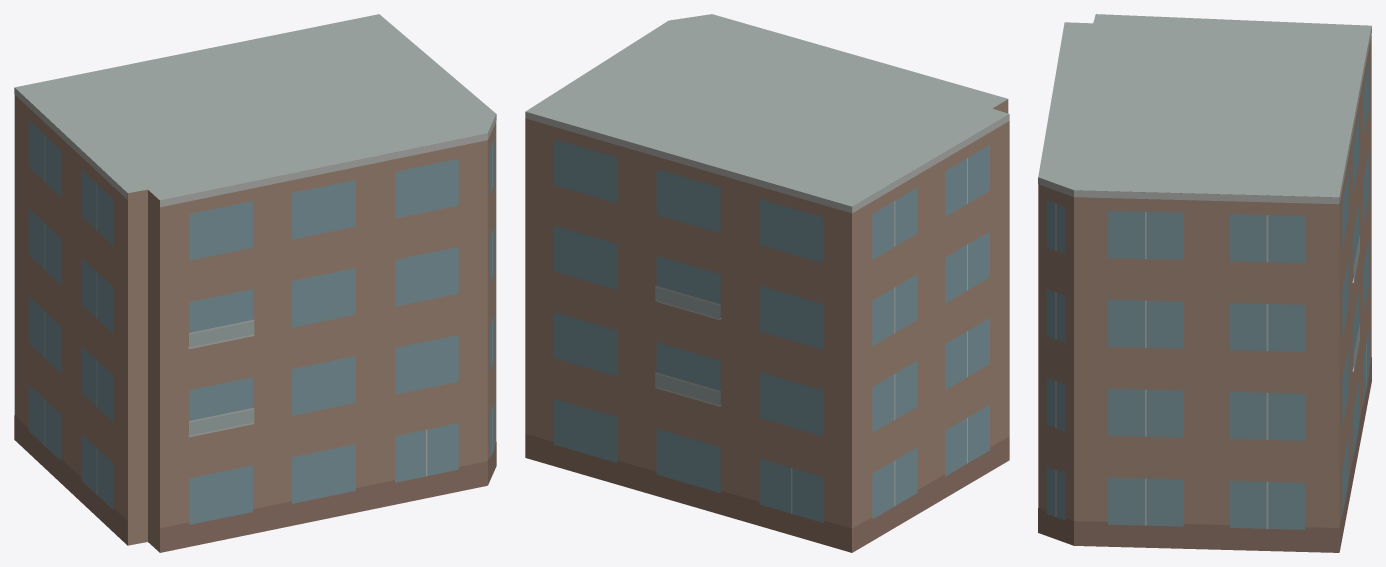
Rendered from survey-upis-32849080.glb.
The picture shows the model from 3 angles, left to right: view 1: azimuth 30°, elevation 25°; view 2: azimuth 150°, elevation 25°; view 3: azimuth 270°, elevation 25°; orthographic projection. The views are drawn at different scales.
Visible parts, largest first — view 1: survey-upis-32849080.tmp; view 2: survey-upis-32849080.tmp; view 3: survey-upis-32849080.tmp.
Part boxes in pixels (bbox=[...]): survey-upis-32849080.tmp: bbox=[14, 14, 496, 552]; survey-upis-32849080.tmp: bbox=[525, 14, 1009, 552]; survey-upis-32849080.tmp: bbox=[1038, 14, 1371, 552].
Bounding box in the file's own units: 13.83 × 12.5 × 10.64.
